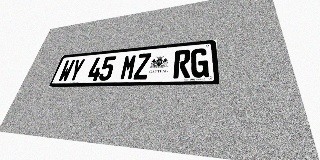4: (86, 57, 105, 81)
5: (98, 56, 116, 81)
G: (191, 48, 209, 78)
M: (119, 54, 138, 80)
R: (173, 49, 191, 78)
W: (57, 60, 75, 82)
Y: (67, 59, 86, 82)
Z: (133, 53, 151, 80)
